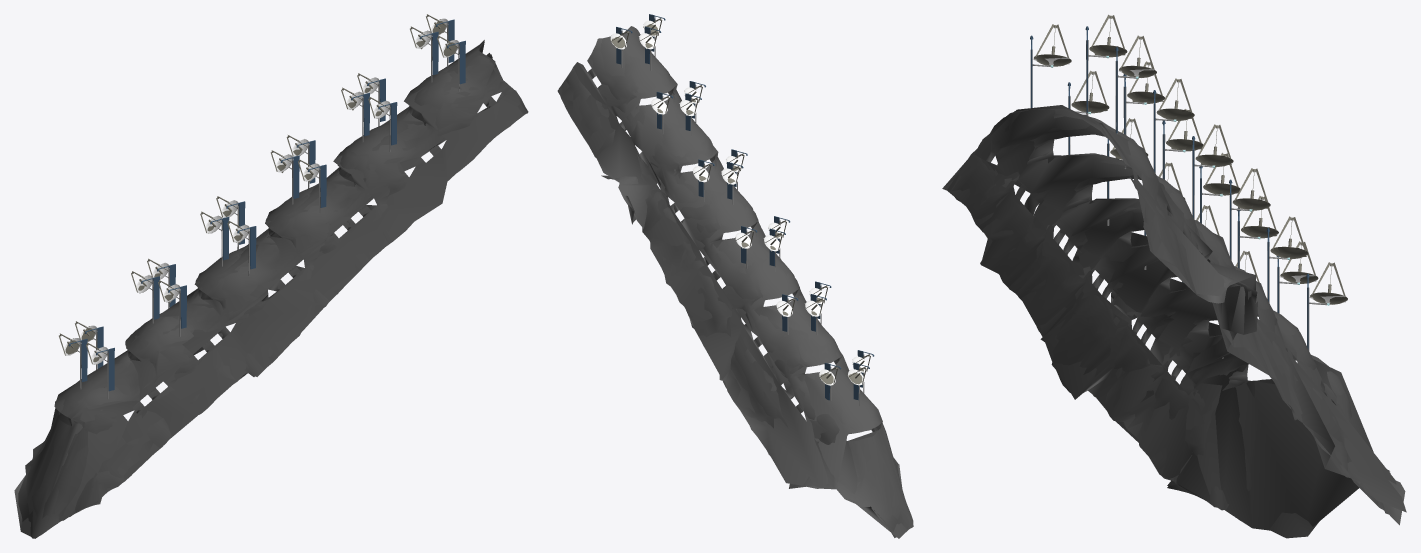
Rendered from Overlay_5th_Gal_Bottom.glb.
The picture shows the model from 3 angles, left to right: view 1: azimuth 30°, elevation 25°; view 2: azimuth 150°, elevation 25°; view 3: azimuth 270°, elevation 25°; orthographic projection. The views are drawn at different scales.
Parts seen in each view (by area): view 1: Overlay_5thGal_Bottom.002, Overlay_5thGal_Bottom, Overlay_5thGal_Bottom.001, LightTubes_5thGal_Bottom_LEDs, LightTube_5thGal_Bottom_Mirrors, LightTube_5thGal_Bottom_Mirrors.002, LightTube_5thGal_Bottom_Mirrors.001, LightTubes_5thGal_Bottom_Bases; view 2: Overlay_5thGal_Bottom, Overlay_5thGal_Bottom.002, Overlay_5thGal_Bottom.001, LightTubes_5thGal_Bottom_LEDs, LightTube_5thGal_Bottom_Mirrors, LightTube_5thGal_Bottom_Mirrors.002, LightTube_5thGal_Bottom_Mirrors.001, LightTubes_5thGal_Bottom_Bases; view 3: Overlay_5thGal_Bottom.002, Overlay_5thGal_Bottom, Overlay_5thGal_Bottom.001, LightTube_5thGal_Bottom_Mirrors, LightTubes_5thGal_Bottom_LEDs, LightTube_5thGal_Bottom_Mirrors.001, LightTubes_5thGal_Bottom_Bases, LightTube_5thGal_Bottom_Mirrors.002, LightTubes_5thGal_Bottom_Bases.001, LightTubes_5thGal_Bottom_Bases.002.
Part boxes in pixels (x1,y1,x2,y2): Overlay_5thGal_Bottom.002: (14, 41, 528, 538); Overlay_5thGal_Bottom: (18, 41, 527, 538); Overlay_5thGal_Bottom.001: (18, 40, 527, 538); LightTubes_5thGal_Bottom_LEDs: (68, 19, 465, 391); LightTube_5thGal_Bottom_Mirrors: (59, 14, 459, 364); LightTube_5thGal_Bottom_Mirrors.002: (65, 19, 457, 364); LightTube_5thGal_Bottom_Mirrors.001: (64, 15, 458, 364); LightTubes_5thGal_Bottom_Bases: (77, 22, 459, 399); Overlay_5thGal_Bottom: (558, 28, 913, 537); Overlay_5thGal_Bottom.002: (557, 26, 907, 538); Overlay_5thGal_Bottom.001: (561, 26, 909, 529); LightTubes_5thGal_Bottom_LEDs: (616, 14, 874, 400); LightTube_5thGal_Bottom_Mirrors: (610, 18, 870, 385); LightTube_5thGal_Bottom_Mirrors.002: (610, 24, 867, 384); LightTube_5thGal_Bottom_Mirrors.001: (611, 19, 867, 385); LightTubes_5thGal_Bottom_Bases: (621, 16, 864, 406); Overlay_5thGal_Bottom.002: (947, 105, 1406, 530); Overlay_5thGal_Bottom: (943, 109, 1405, 524); Overlay_5thGal_Bottom.001: (942, 108, 1404, 538); LightTube_5thGal_Bottom_Mirrors: (1033, 14, 1347, 305); LightTubes_5thGal_Bottom_LEDs: (1030, 26, 1309, 349); LightTube_5thGal_Bottom_Mirrors.001: (1035, 17, 1344, 305); LightTubes_5thGal_Bottom_Bases: (1030, 40, 1326, 358); LightTube_5thGal_Bottom_Mirrors.002: (1033, 38, 1345, 303); LightTubes_5thGal_Bottom_Bases.001: (1033, 40, 1326, 358); LightTubes_5thGal_Bottom_Bases.002: (1033, 40, 1326, 350).
Size of what is drawn, in the model's own units: 355 by 357 by 187.
